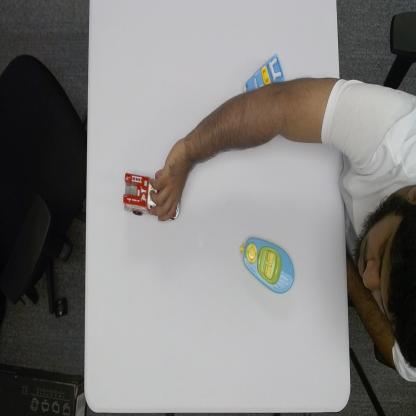Arm: (182, 78, 346, 176)
Boat: (238, 234, 296, 296)
Car: (242, 53, 287, 90)
Firetruck: (122, 172, 182, 220)
Hand: (149, 136, 194, 224)
